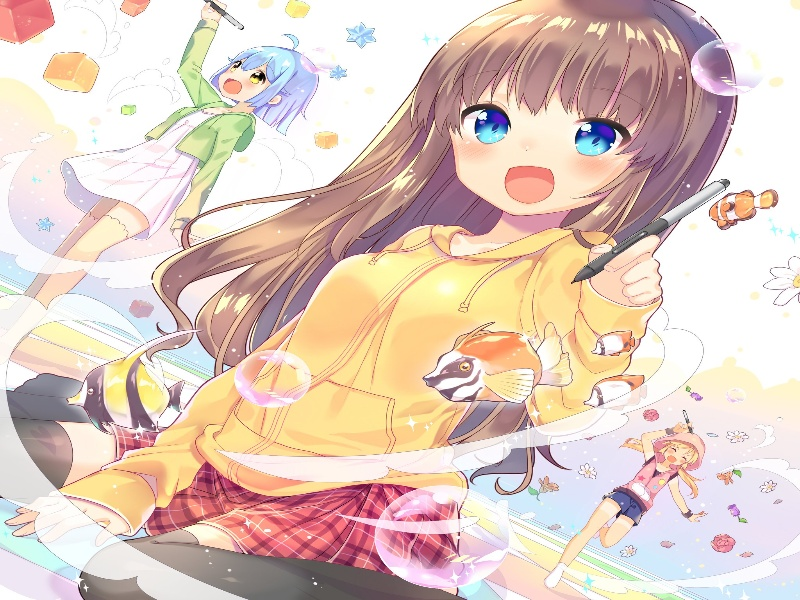flower: (762, 247, 800, 307), (708, 531, 739, 557), (715, 465, 745, 489), (573, 460, 602, 484), (727, 502, 750, 526), (724, 430, 752, 447), (619, 544, 642, 559), (761, 478, 778, 496)
person: (392, 9, 719, 251), (208, 46, 300, 125), (654, 433, 705, 478)
